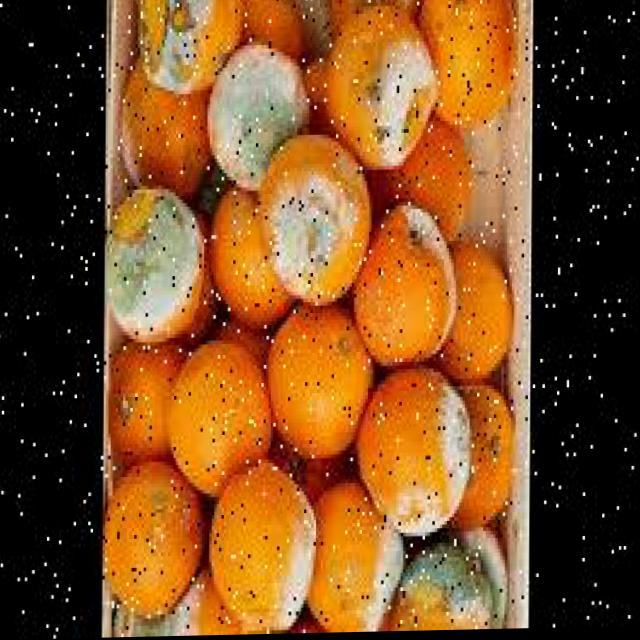orange: (357, 367, 471, 536), (354, 206, 458, 369), (168, 340, 272, 498), (214, 472, 319, 628), (105, 461, 207, 621), (269, 306, 370, 461), (307, 484, 404, 634), (121, 62, 214, 199), (418, 0, 514, 130), (380, 116, 472, 245), (433, 242, 514, 385), (109, 342, 185, 467), (236, 0, 305, 62), (328, 0, 416, 45)
